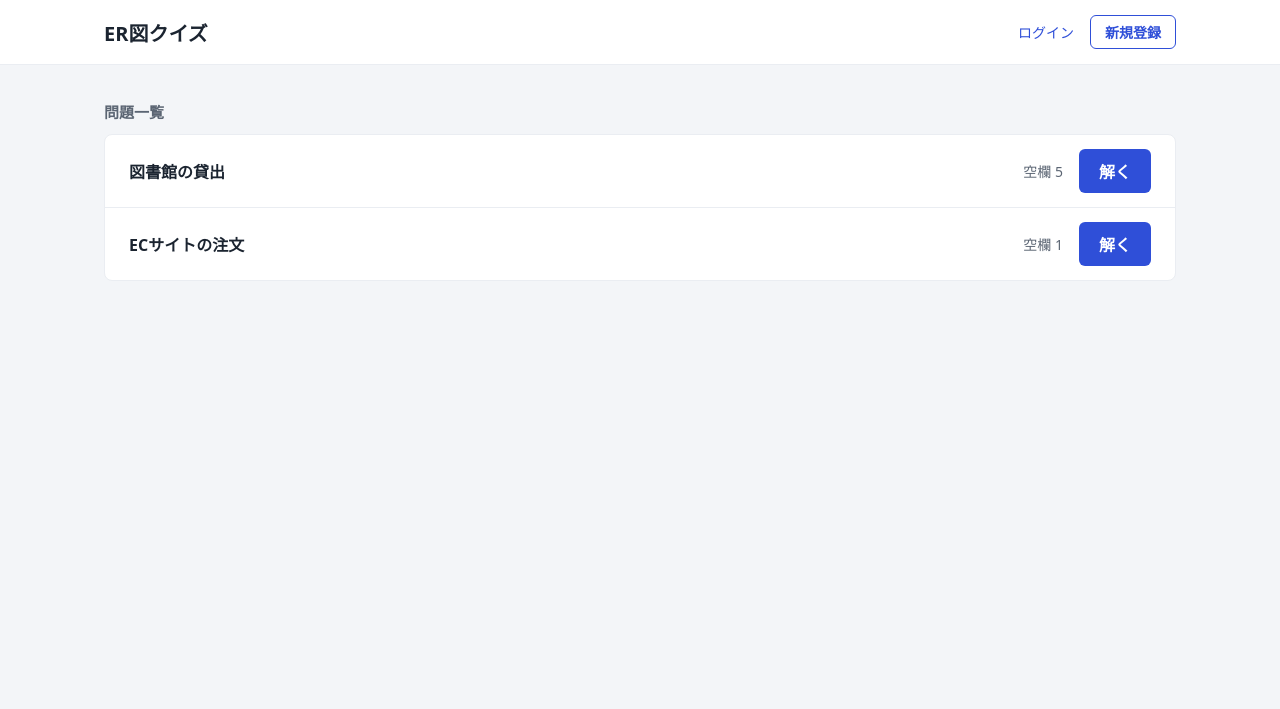
it: App › 一覧を新しい順に出し、[解く] で問題画面へ移る
expect the list items read "図書館の貸出空欄 5解く", "ECサイトの注文空欄 1解く", in this order: met, box 105,135 -> 1175,207; 105,207 -> 1175,280
Click the button with aria-label "ECサイトの注文を解く".
click(1115, 244)  # box 1079,222 -> 1151,266
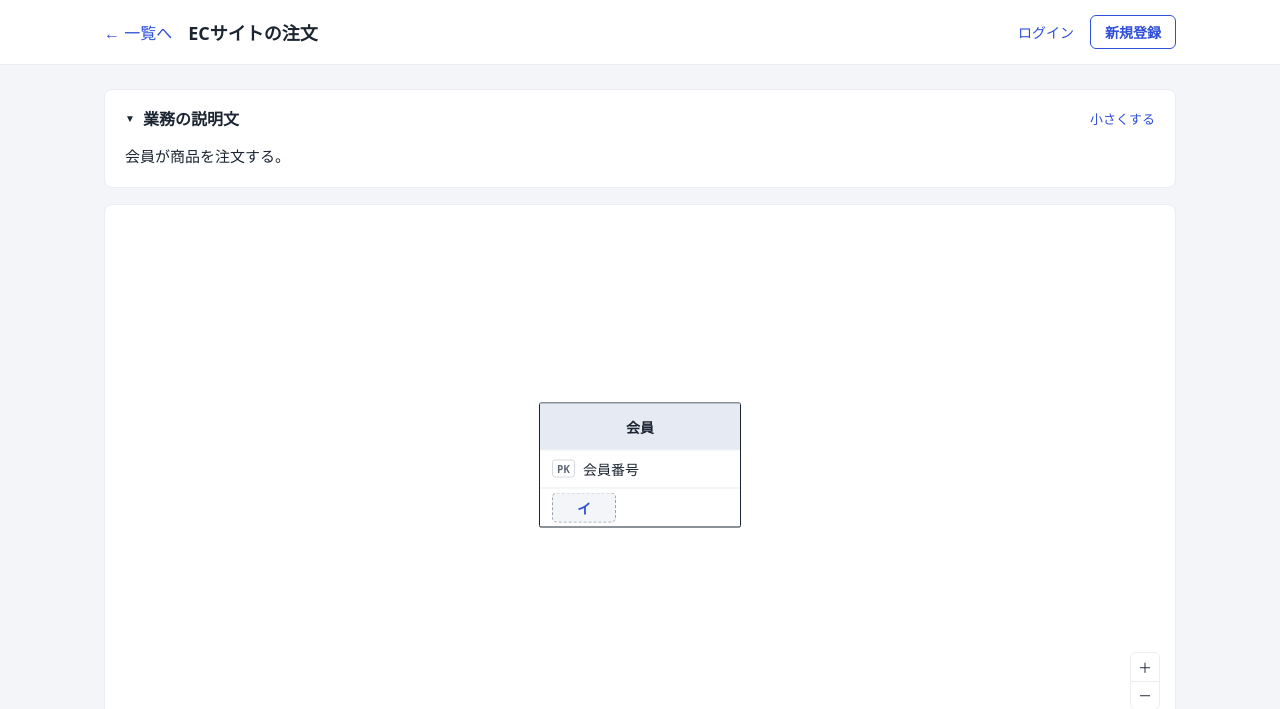
expect the heading "ECサイトの注文" is shown: met, box 188,19 -> 318,45
Click the button "← 一覧へ".
click(138, 32)  # box 104,20 -> 172,44
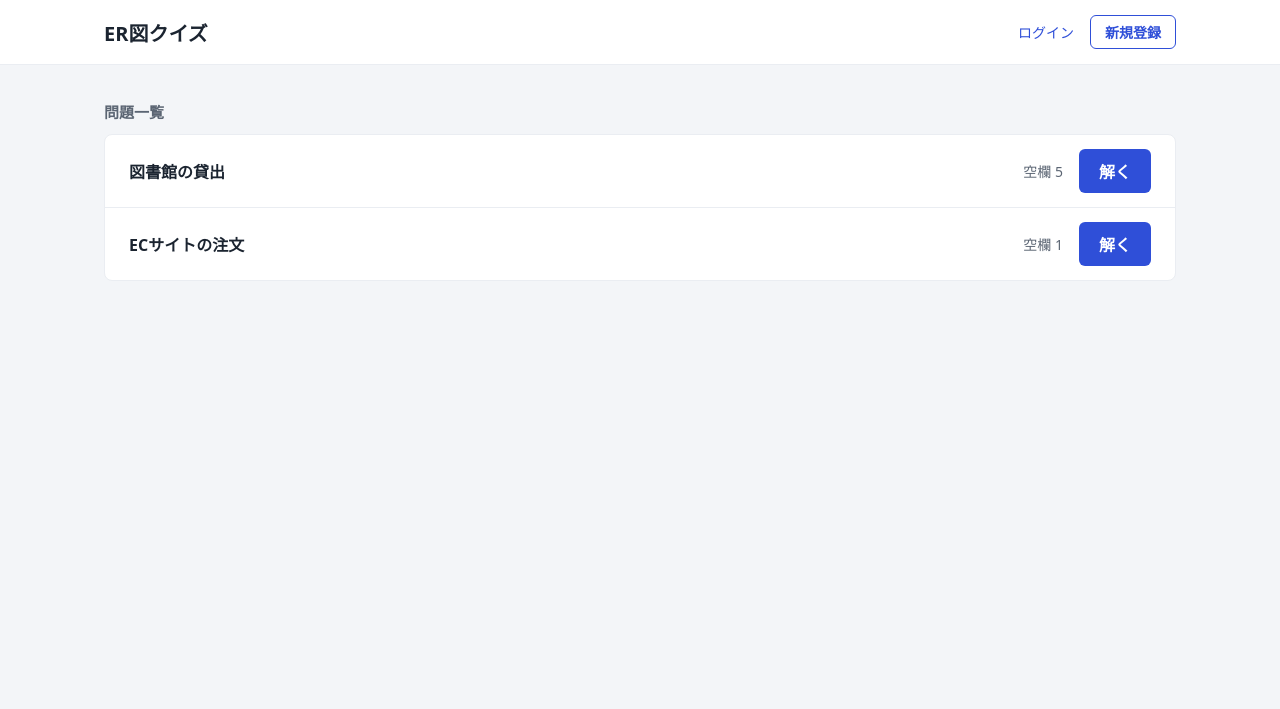
expect the heading "問題一覧" is shown: met, box 104,102 -> 164,122
